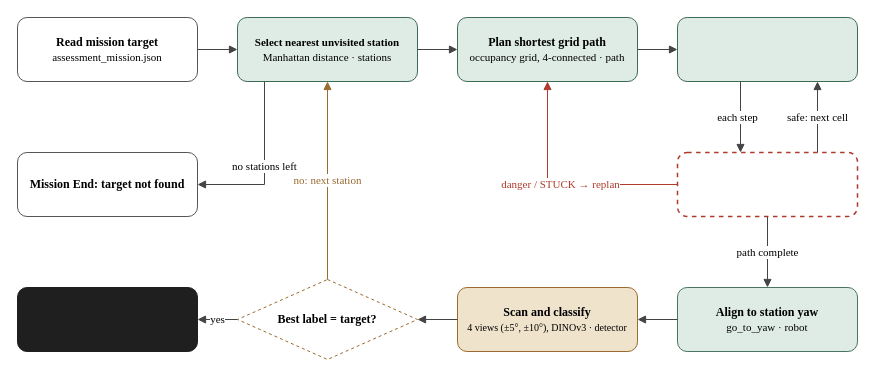
This 876x377 diagram has some shape labels left out. The box of each missing label's shape, as (x1, y1, x2, y2) in pixels:
Drive to next cell turn, then move forward · robot: (676, 16, 858, 82)
Safety check every step proximity + stuck · safety: (676, 151, 858, 217)
Stop: mission success: (16, 286, 198, 352)
